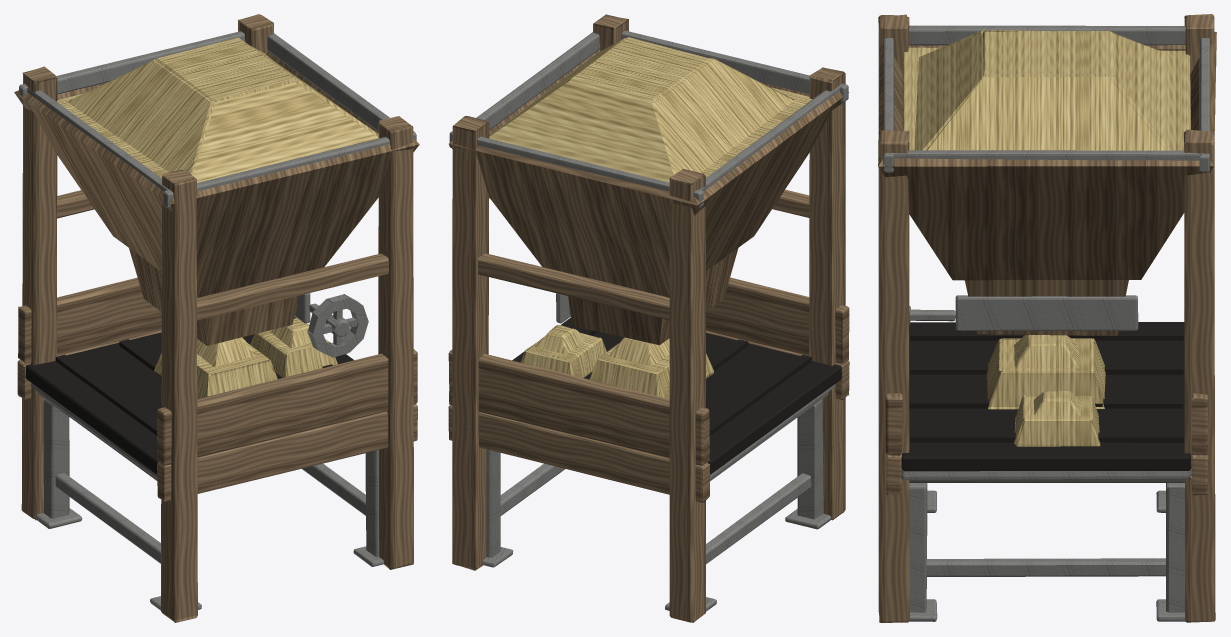
The model's file is hopper_feeder.glb.
3 renders of one model, left to right at view 1: azimuth 30°, elevation 25°; view 2: azimuth 150°, elevation 25°; view 3: azimuth 270°, elevation 25°, orthographic. The views are drawn at different scales.
Parts seen in each view (by area): view 1: HopperFeeder, HayFill, Belt, Roller; view 2: HopperFeeder, HayFill, Belt, Roller; view 3: HopperFeeder, HayFill, Belt, Roller2.
Boxes of the visible parts, x1,y1,x2,y2 form: HopperFeeder: (14, 14, 419, 622); HayFill: (56, 37, 378, 182); Belt: (25, 317, 353, 474); Roller: (31, 383, 157, 480); HopperFeeder: (448, 14, 849, 622); HayFill: (489, 37, 812, 182); Belt: (512, 317, 841, 474); Roller: (710, 384, 835, 481); HopperFeeder: (878, 14, 1216, 622); HayFill: (902, 29, 1190, 150); Belt: (901, 322, 1191, 471); Roller2: (901, 467, 1191, 482).
Size of the model in its own units: 1.69 by 2.96 by 1.77.
Materials: 4 (3 with a texture image).
